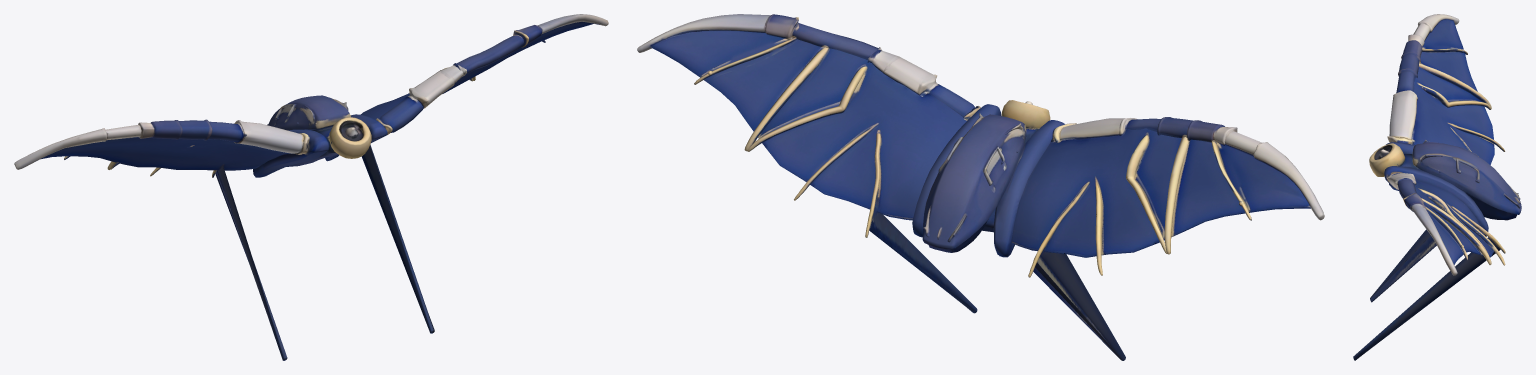
File: moonflight-wing.glb
3 renders of one model, left to right at view 1: azimuth 30°, elevation 25°; view 2: azimuth 150°, elevation 25°; view 3: azimuth 270°, elevation 25°, orthographic. The views are drawn at different scales.
Visible parts, largest first — view 1: xinglan_moonflight-wing.001; view 2: xinglan_moonflight-wing.001; view 3: xinglan_moonflight-wing.001.
Part boxes in pixels (x1=…): xinglan_moonflight-wing.001: x1=14, y1=14, x2=608, y2=360; xinglan_moonflight-wing.001: x1=637, y1=14, x2=1324, y2=360; xinglan_moonflight-wing.001: x1=1353, y1=14, x2=1521, y2=360.
Size of the model in its own units: 1.82 by 0.7332 by 0.5113.
1 material, 1 textured.
